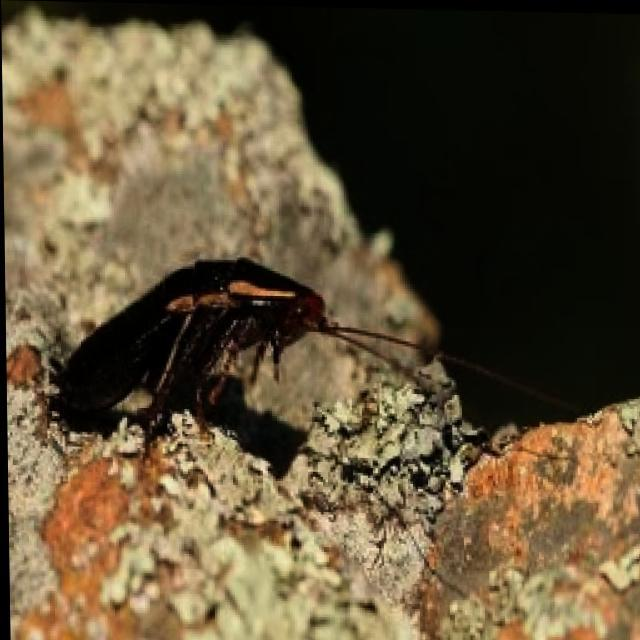cockroach: (24, 247, 371, 446)
